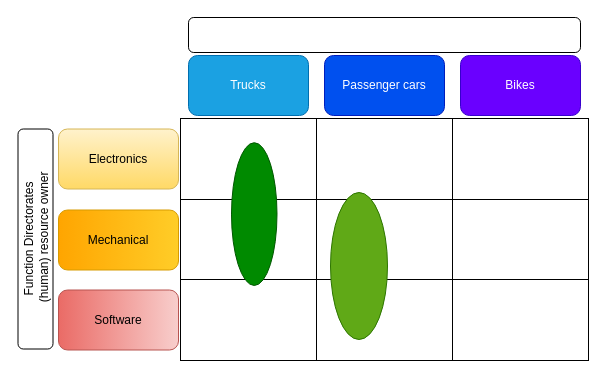
The diagram is 606 pixels wide and 378 high, and some of its shapes have lost their labels. The shapes that lost their labels are listed below. From the top down, each one's centre as x and y in pixels, then its label:
At [384,34]: "Product Directorates (Project owner)".
At [253,214]: "Project 1".
At [359,266]: "Project 2".
